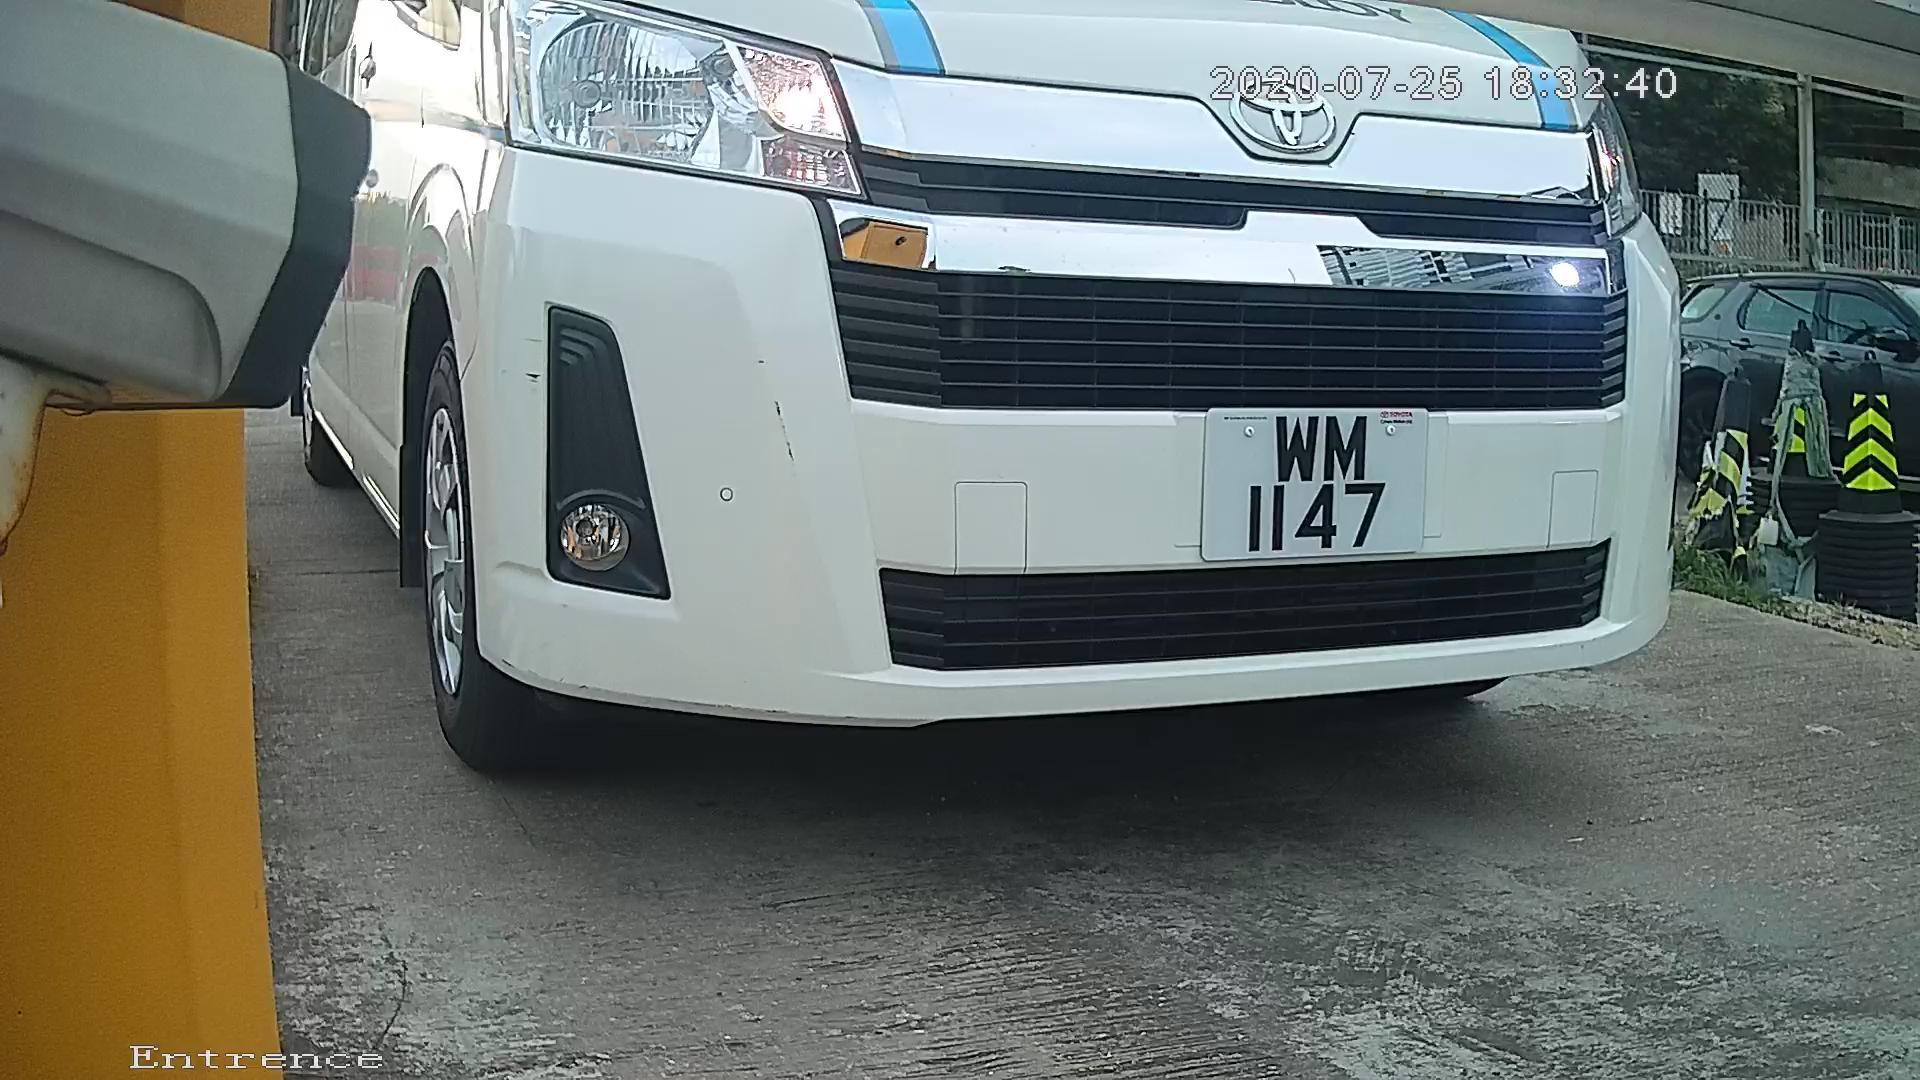privatecar: (361, 25, 1724, 796)
